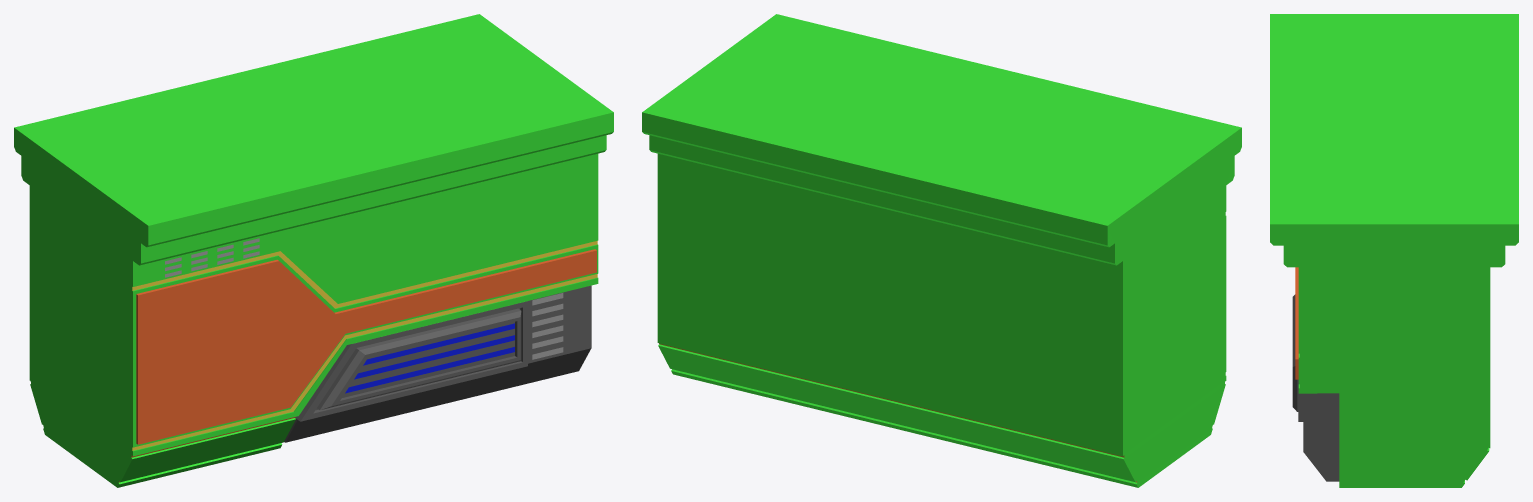
The model's file is Bar_Ceiling_01_Straight_C.fbx.
3 views of the same model, side by side, from view 1: azimuth 30°, elevation 25°; view 2: azimuth 150°, elevation 25°; view 3: azimuth 270°, elevation 25° (orthographic). The views are drawn at different scales.
Visible parts, largest first — view 1: Bar_Ceiling_01_Straight_C; view 2: Bar_Ceiling_01_Straight_C; view 3: Bar_Ceiling_01_Straight_C.
Boxes of the visible parts, box(x1,y1,x2,y2) form: Bar_Ceiling_01_Straight_C: box(14, 14, 613, 487); Bar_Ceiling_01_Straight_C: box(642, 14, 1241, 487); Bar_Ceiling_01_Straight_C: box(1270, 14, 1518, 487).
Size of the model in its own units: 183 by 107 by 91.44.
